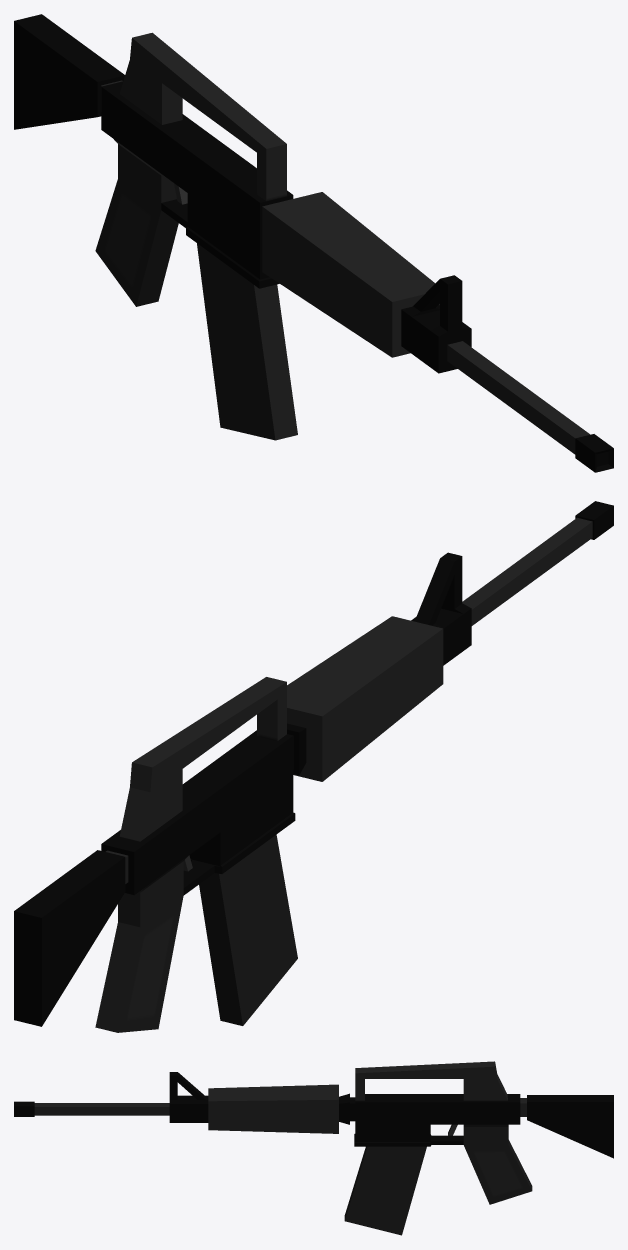
File: assault_rifle_02.fbx
The picture shows the model from 3 angles, top to bottom: view 1: azimuth 30°, elevation 25°; view 2: azimuth 150°, elevation 25°; view 3: azimuth 270°, elevation 25°; orthographic projection. The views are drawn at different scales.
Visible parts, largest first — view 1: assault_rifle2; view 2: assault_rifle2; view 3: assault_rifle2.
Boxes of the visible parts, x1,y1,x2,y2 form: assault_rifle2: [14, 14, 613, 472]; assault_rifle2: [14, 501, 613, 1032]; assault_rifle2: [14, 1061, 613, 1235].
Bounding box in the file's own units: 0.0661 × 0.3404 × 1.1.
